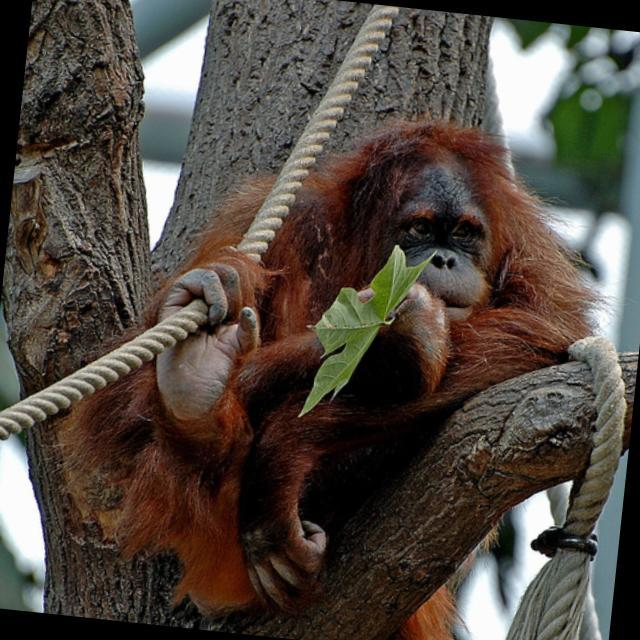Orangutan: (126, 119, 580, 566)
